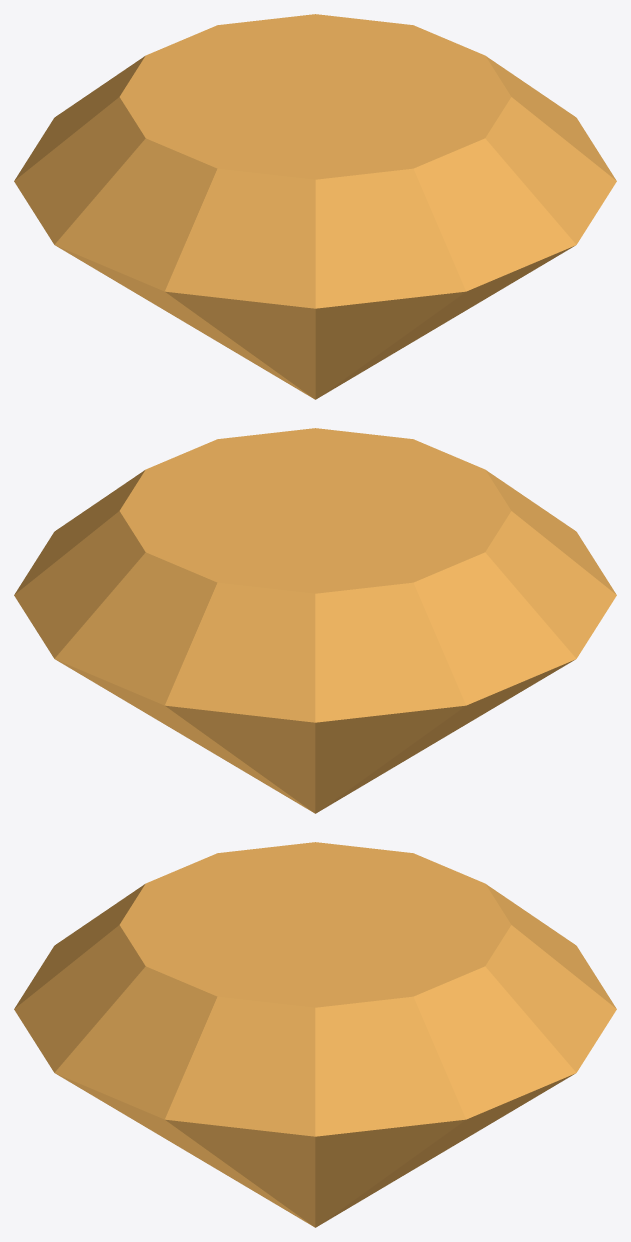
File: Diamond_02.fbx
The picture shows the model from 3 angles, top to bottom: view 1: azimuth 30°, elevation 25°; view 2: azimuth 150°, elevation 25°; view 3: azimuth 270°, elevation 25°; orthographic projection.
Visible parts, largest first — view 1: Diamond_02; view 2: Diamond_02; view 3: Diamond_02.
Boxes of the visible parts, <box> form: Diamond_02: <box>14,14,616,399</box>; Diamond_02: <box>14,428,616,813</box>; Diamond_02: <box>14,842,616,1227</box>.
Bounding box in the file's own units: 374 × 207 × 374.
